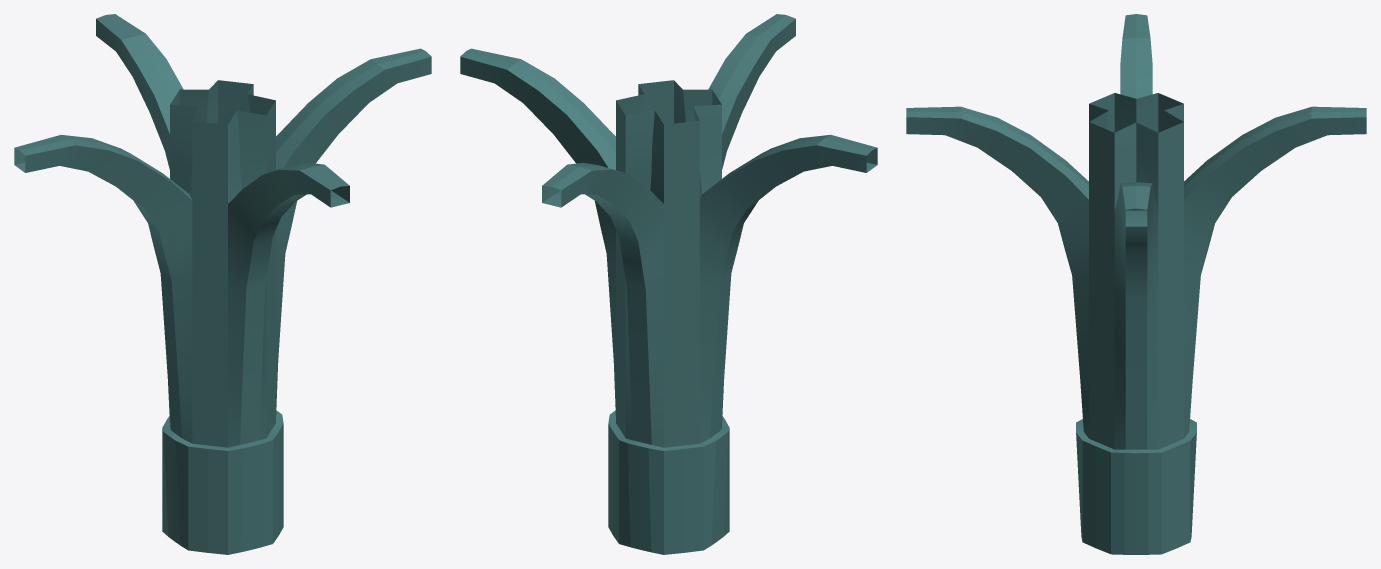
The model's file is Arch_Quad.fbx.
3 views of the same model, side by side, from view 1: azimuth 30°, elevation 25°; view 2: azimuth 150°, elevation 25°; view 3: azimuth 270°, elevation 25° (orthographic).
Visible parts, largest first — view 1: Arch_Quad; view 2: Arch_Quad; view 3: Arch_Quad.
Part boxes in pixels (bbox=[...]): Arch_Quad: bbox=[14, 14, 431, 554]; Arch_Quad: bbox=[460, 14, 877, 554]; Arch_Quad: bbox=[906, 14, 1366, 554].
Size of the model in its own units: 400 by 404 by 400.
